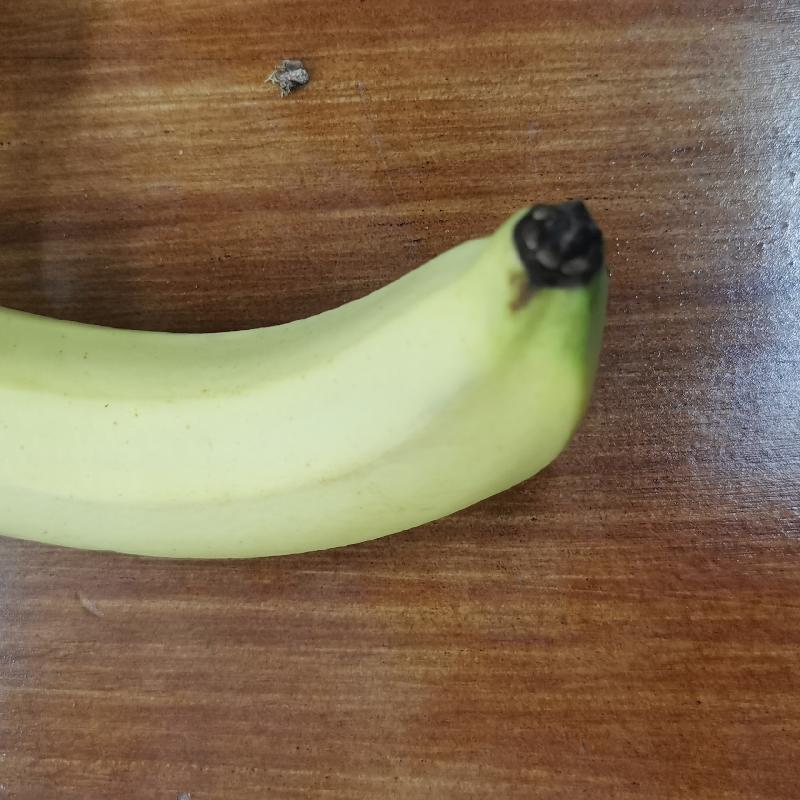bananas: (0, 193, 618, 563)
